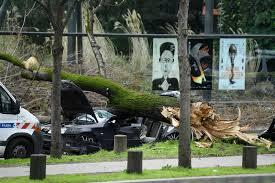Downstairs: (1, 51, 228, 143)
